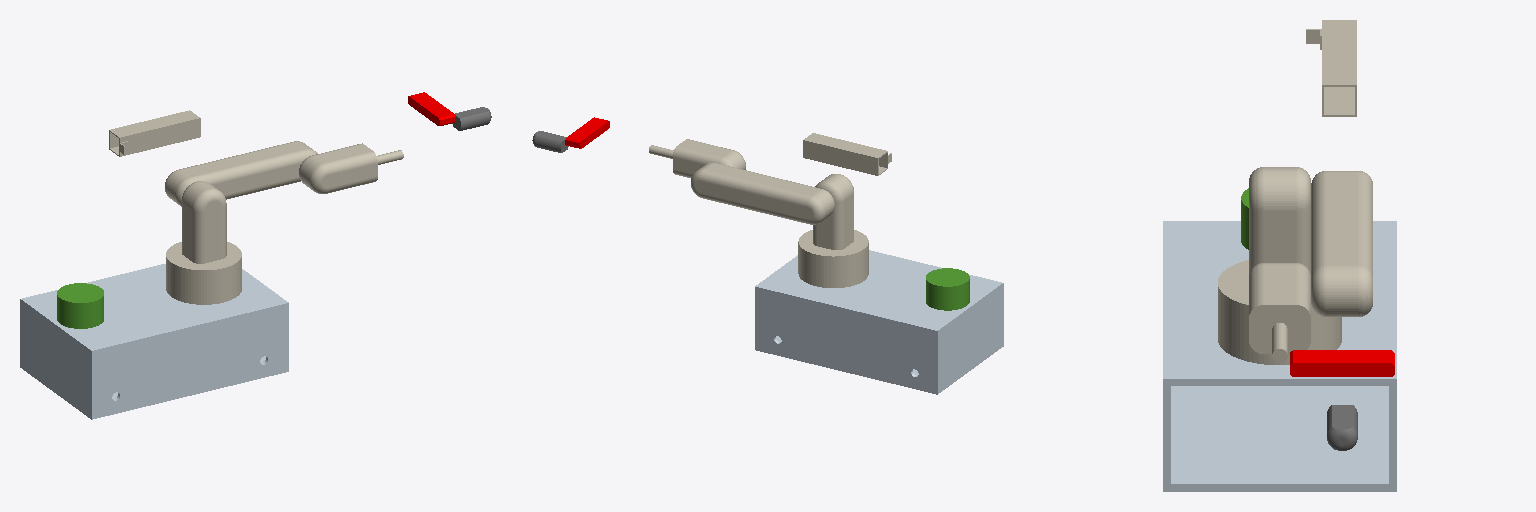
The robot description file, URDF, robot "rover":
<?xml version="1.0" ?>
<!-- Generated using onshape-to-robot -->
<!-- Onshape document_id: b6ac805677604f50f29b90bd / workspace_id: f7cf7502a4385f463da6ef04 -->
<robot name="rover">
  <!-- Link chassis -->
  <link name="chassis">
    <inertial>
      <origin xyz="-0.266784 -0.20623 -0.0288184" rpy="0 0 0"/>
      <mass value="29.5784"/>
      <inertia ixx="0.731528" ixy="1.7327e-08" ixz="-0.096069" iyy="1.27479" iyz="1.2884e-08" izz="1.49519"/>
    </inertial>
    <!-- Part base -->
    <visual>
      <origin xyz="-0.113729 -0.20623 0.051442" rpy="-4.1366e-08 3.05199e-07 -3.9209e-08"/>
      <geometry>
        <mesh filename="package://rover_description/meshes/base.stl"/>
      </geometry>
      <material name="base_material">
        <color rgba="0.8 0.776471 0.713725 1"/>
      </material>
    </visual>
    <collision>
      <origin xyz="-0.113729 -0.20623 0.051442" rpy="-4.1366e-08 3.05199e-07 -3.9209e-08"/>
      <geometry>
        <mesh filename="package://rover_description/meshes/base.stl"/>
      </geometry>
    </collision>
    <!-- Part chassis -->
    <visual>
      <origin xyz="-0.266129 -0.20623 -0.151758" rpy="-4.1366e-08 3.05199e-07 -3.9209e-08"/>
      <geometry>
        <mesh filename="package://rover_description/meshes/chassis.stl"/>
      </geometry>
      <material name="chassis_material">
        <color rgba="0.811765 0.858824 0.898039 1"/>
      </material>
    </visual>
    <collision>
      <origin xyz="-0.266129 -0.20623 -0.151758" rpy="-4.1366e-08 3.05199e-07 -3.9209e-08"/>
      <geometry>
        <mesh filename="package://rover_description/meshes/chassis.stl"/>
      </geometry>
    </collision>
  </link>
  <!-- Link part_1 -->
  <link name="part_1">
    <inertial>
      <origin xyz="-0 0 -0.0475496" rpy="0 0 0"/>
      <mass value="5.36566"/>
      <inertia ixx="0.0699654" ixy="-0" ixz="0" iyy="0.0699654" iyz="-0" izz="0.12389"/>
    </inertial>
    <!-- Part part_1 -->
    <visual>
      <origin xyz="-0 0 0" rpy="-3.14159 0 -0"/>
      <geometry>
        <mesh filename="package://rover_description/meshes/part_1.stl"/>
      </geometry>
      <material name="part_1_material">
        <color rgba="0.4 0.4 0.4 1"/>
      </material>
    </visual>
    <collision>
      <origin xyz="-0 0 0" rpy="-3.14159 0 -0"/>
      <geometry>
        <mesh filename="package://rover_description/meshes/part_1.stl"/>
      </geometry>
    </collision>
  </link>
  <!-- Joint from chassis to part_1 -->
  <joint name="FL_drive" type="revolute">
    <origin xyz="-0.494729 -0.39673 -0.100958" rpy="-1.5708 3.05199e-07 -3.9209e-08"/>
    <parent link="chassis"/>
    <child link="part_1"/>
    <axis xyz="0 0 1"/>
    <limit effort="10" velocity="10" lower="-3.141592653589793" upper="3.141592653589793"/>
  </joint>
  <!-- Link part_1_2 -->
  <link name="part_1_2">
    <inertial>
      <origin xyz="-0 -0 -0.0475496" rpy="0 0 0"/>
      <mass value="5.36566"/>
      <inertia ixx="0.0699654" ixy="-0" ixz="0" iyy="0.0699654" iyz="-0" izz="0.12389"/>
    </inertial>
    <!-- Part part_1_2 -->
    <visual>
      <origin xyz="0 0 -0" rpy="3.14159 -0 0"/>
      <geometry>
        <mesh filename="package://rover_description/meshes/part_1.stl"/>
      </geometry>
      <material name="part_1_2_material">
        <color rgba="0.4 0.4 0.4 1"/>
      </material>
    </visual>
    <collision>
      <origin xyz="0 0 -0" rpy="3.14159 -0 0"/>
      <geometry>
        <mesh filename="package://rover_description/meshes/part_1.stl"/>
      </geometry>
    </collision>
  </link>
  <!-- Joint from chassis to part_1_2 -->
  <joint name="BL_drive" type="revolute">
    <origin xyz="-0.0375289 -0.39673 -0.100958" rpy="-1.5708 3.05199e-07 -3.9209e-08"/>
    <parent link="chassis"/>
    <child link="part_1_2"/>
    <axis xyz="0 0 1"/>
    <limit effort="10" velocity="10" lower="-3.141592653589793" upper="3.141592653589793"/>
  </joint>
  <!-- Link part_1_3 -->
  <link name="part_1_3">
    <inertial>
      <origin xyz="0 -0 -0.0475496" rpy="0 0 0"/>
      <mass value="5.36566"/>
      <inertia ixx="0.0699654" ixy="0" ixz="-0" iyy="0.0699654" iyz="-0" izz="0.12389"/>
    </inertial>
    <!-- Part part_1_3 -->
    <visual>
      <origin xyz="0 -0 -0" rpy="-3.14159 -0 -0"/>
      <geometry>
        <mesh filename="package://rover_description/meshes/part_1.stl"/>
      </geometry>
      <material name="part_1_3_material">
        <color rgba="0.4 0.4 0.4 1"/>
      </material>
    </visual>
    <collision>
      <origin xyz="0 -0 -0" rpy="-3.14159 -0 -0"/>
      <geometry>
        <mesh filename="package://rover_description/meshes/part_1.stl"/>
      </geometry>
    </collision>
  </link>
  <!-- Joint from chassis to part_1_3 -->
  <joint name="FR_drive" type="revolute">
    <origin xyz="-0.494729 -0.0157296 -0.100958" rpy="1.5708 3.05199e-07 -3.9209e-08"/>
    <parent link="chassis"/>
    <child link="part_1_3"/>
    <axis xyz="0 0 1"/>
    <limit effort="10" velocity="10" lower="-3.141592653589793" upper="3.141592653589793"/>
  </joint>
  <!-- Link part_1_4 -->
  <link name="part_1_4">
    <inertial>
      <origin xyz="-0 0 -0.0475496" rpy="0 0 0"/>
      <mass value="5.36566"/>
      <inertia ixx="0.0699654" ixy="0" ixz="-0" iyy="0.0699654" iyz="-0" izz="0.12389"/>
    </inertial>
    <!-- Part part_1_4 -->
    <visual>
      <origin xyz="0 0 0" rpy="-3.14159 0 -0"/>
      <geometry>
        <mesh filename="package://rover_description/meshes/part_1.stl"/>
      </geometry>
      <material name="part_1_4_material">
        <color rgba="0.4 0.4 0.4 1"/>
      </material>
    </visual>
    <collision>
      <origin xyz="0 0 0" rpy="-3.14159 0 -0"/>
      <geometry>
        <mesh filename="package://rover_description/meshes/part_1.stl"/>
      </geometry>
    </collision>
  </link>
  <!-- Joint from chassis to part_1_4 -->
  <joint name="BR_drive" type="revolute">
    <origin xyz="-0.0375289 -0.0157296 -0.100958" rpy="1.5708 3.05199e-07 -3.9209e-08"/>
    <parent link="chassis"/>
    <child link="part_1_4"/>
    <axis xyz="0 0 1"/>
    <limit effort="10" velocity="10" lower="-3.141592653589793" upper="3.141592653589793"/>
  </joint>
  <!-- Link lidar -->
  <link name="lidar">
    <inertial>
      <origin xyz="0 -0 -0.0381" rpy="0 0 0"/>
      <mass value="1.2066"/>
      <inertia ixx="0.00180016" ixy="0" ixz="0" iyy="0.00180016" iyz="-0" izz="0.00243265"/>
    </inertial>
    <!-- Part lidar -->
    <visual>
      <origin xyz="0 0 -0" rpy="-3.14159 0 0"/>
      <geometry>
        <mesh filename="package://rover_description/meshes/lidar.stl"/>
      </geometry>
      <material name="lidar_material">
        <color rgba="0.372549 0.654902 0.239216 1"/>
      </material>
    </visual>
    <collision>
      <origin xyz="0 0 -0" rpy="-3.14159 0 0"/>
      <geometry>
        <mesh filename="package://rover_description/meshes/lidar.stl"/>
      </geometry>
    </collision>
  </link>
  <!-- Joint from chassis to lidar -->
  <joint name="chassis_lidar" type="fixed">
    <origin xyz="-0.494729 -0.20623 0.0514421" rpy="3.14159 3.05199e-07 -3.9209e-08"/>
    <parent link="chassis"/>
    <child link="lidar"/>
    <axis xyz="0 0 1"/>
    <limit effort="10" velocity="10"/>
  </joint>
  <!-- Link l0 -->
  <link name="l0">
    <inertial>
      <origin xyz="-0 -0.00273443 -0.0971396" rpy="0 0 0"/>
      <mass value="2.39104"/>
      <inertia ixx="0.00990806" ixy="0" ixz="-0" iyy="0.00914638" iyz="-0.000361301" izz="0.00427665"/>
    </inertial>
    <!-- Part l0 -->
    <visual>
      <origin xyz="-0 0 0.1016" rpy="3.14159 0 -0"/>
      <geometry>
        <mesh filename="package://rover_description/meshes/l0.stl"/>
      </geometry>
      <material name="l0_material">
        <color rgba="0.8 0.776471 0.713725 1"/>
      </material>
    </visual>
    <collision>
      <origin xyz="-0 0 0.1016" rpy="3.14159 0 -0"/>
      <geometry>
        <mesh filename="package://rover_description/meshes/l0.stl"/>
      </geometry>
    </collision>
  </link>
  <!-- Link l1 -->
  <link name="l1">
    <inertial>
      <origin xyz="0.0913043 0 -0.0508" rpy="0 0 0"/>
      <mass value="2.50551"/>
      <inertia ixx="0.00334246" ixy="0" ixz="-0" iyy="0.0150034" iyz="0" izz="0.0145766"/>
    </inertial>
    <!-- Part l1 -->
    <visual>
      <origin xyz="-0 0.254 -0.1524" rpy="1.5708 -0 -0"/>
      <geometry>
        <mesh filename="package://rover_description/meshes/l1.stl"/>
      </geometry>
      <material name="l1_material">
        <color rgba="0.8 0.776471 0.713725 1"/>
      </material>
    </visual>
    <collision>
      <origin xyz="-0 0.254 -0.1524" rpy="1.5708 -0 -0"/>
      <geometry>
        <mesh filename="package://rover_description/meshes/l1.stl"/>
      </geometry>
    </collision>
  </link>
  <!-- Link l2 -->
  <link name="l2">
    <inertial>
      <origin xyz="-0.003331 2.5e-11 -0.0963825" rpy="0 0 0"/>
      <mass value="1.96282"/>
      <inertia ixx="0.00691356" ixy="2e-12" ixz="-0.00036625" iyy="0.00799142" iyz="1e-12" izz="0.0033451"/>
    </inertial>
    <!-- Part l2 -->
    <visual>
      <origin xyz="-0.1016 0.254 0.2032" rpy="1.5708 1.5708 0"/>
      <geometry>
        <mesh filename="package://rover_description/meshes/l2.stl"/>
      </geometry>
      <material name="l2_material">
        <color rgba="0.8 0.776471 0.713725 1"/>
      </material>
    </visual>
    <collision>
      <origin xyz="-0.1016 0.254 0.2032" rpy="1.5708 1.5708 0"/>
      <geometry>
        <mesh filename="package://rover_description/meshes/l2.stl"/>
      </geometry>
    </collision>
  </link>
  <!-- Link l3 -->
  <link name="l3">
    <inertial>
      <origin xyz="0.0659696 -0 -0.0508" rpy="0 0 0"/>
      <mass value="1.96713"/>
      <inertia ixx="0.00259743" ixy="-0" ixz="-0" iyy="0.00827847" iyz="0" izz="0.00794865"/>
    </inertial>
    <!-- Part l3 -->
    <visual>
      <origin xyz="-0.3556 0.254 -0.0508" rpy="1.5708 0 -0"/>
      <geometry>
        <mesh filename="package://rover_description/meshes/l3.stl"/>
      </geometry>
      <material name="l3_material">
        <color rgba="0.8 0.776471 0.713725 1"/>
      </material>
    </visual>
    <collision>
      <origin xyz="-0.3556 0.254 -0.0508" rpy="1.5708 0 -0"/>
      <geometry>
        <mesh filename="package://rover_description/meshes/l3.stl"/>
      </geometry>
    </collision>
  </link>
  <!-- Link part_6 -->
  <link name="part_6">
    <inertial>
      <origin xyz="0.00259042 5.9e-11 -0.124353" rpy="0 0 0"/>
      <mass value="2.52457"/>
      <inertia ixx="0.0138994" ixy="3e-12" ixz="0.000515573" iyy="0.0151421" iyz="6e-12" izz="0.00425848"/>
    </inertial>
    <!-- Part part_6 -->
    <visual>
      <origin xyz="0 0.254 0.508" rpy="1.5708 1.5708 0"/>
      <geometry>
        <mesh filename="package://rover_description/meshes/part_6.stl"/>
      </geometry>
      <material name="part_6_material">
        <color rgba="0.8 0.776471 0.713725 1"/>
      </material>
    </visual>
    <collision>
      <origin xyz="0 0.254 0.508" rpy="1.5708 1.5708 0"/>
      <geometry>
        <mesh filename="package://rover_description/meshes/part_6.stl"/>
      </geometry>
    </collision>
  </link>
  <!-- Link part_7 -->
  <link name="part_7">
    <inertial>
      <origin xyz="0.0460155 0 -0.0508" rpy="0 0 0"/>
      <mass value="1.58137"/>
      <inertia ixx="0.00210371" ixy="0" ixz="-0" iyy="0.00446692" iyz="-0" izz="0.00419773"/>
    </inertial>
    <!-- Part part_7 -->
    <visual>
      <origin xyz="-0.7112 -0.254 0.0508" rpy="-1.5708 0 0"/>
      <geometry>
        <mesh filename="package://rover_description/meshes/part_7.stl"/>
      </geometry>
      <material name="part_7_material">
        <color rgba="0.8 0.776471 0.713725 1"/>
      </material>
    </visual>
    <collision>
      <origin xyz="-0.7112 -0.254 0.0508" rpy="-1.5708 0 0"/>
      <geometry>
        <mesh filename="package://rover_description/meshes/part_7.stl"/>
      </geometry>
    </collision>
  </link>
  <!-- Link part_8 -->
  <link name="part_8">
    <inertial>
      <origin xyz="3.1441e-08 -1.4282e-08 -0.0487831" rpy="0 0 0"/>
      <mass value="0.211137"/>
      <inertia ixx="0.000191412" ixy="-9.9e-11" ixz="3.34e-10" iyy="0.000205123" iyz="-3.5e-10" izz="5.92586e-05"/>
    </inertial>
    <!-- Part part_8 -->
    <visual>
      <origin xyz="-0.1016 0.254 0.8382" rpy="1.5708 1.5708 0"/>
      <geometry>
        <mesh filename="package://rover_description/meshes/part_8.stl"/>
      </geometry>
      <material name="part_8_material">
        <color rgba="0.498039 0.498039 0.498039 1"/>
      </material>
    </visual>
    <collision>
      <origin xyz="-0.1016 0.254 0.8382" rpy="1.5708 1.5708 0"/>
      <geometry>
        <mesh filename="package://rover_description/meshes/part_8.stl"/>
      </geometry>
    </collision>
  </link>
  <!-- Joint from part_7 to part_8 -->
  <joint name="l5_ee" type="revolute">
    <origin xyz="0.127 0 -0.0508" rpy="3.14159 1.5708 0"/>
    <parent link="part_7"/>
    <child link="part_8"/>
    <axis xyz="0 0 1"/>
    <limit effort="10" velocity="10" lower="-3.141592653589793" upper="3.141592653589793"/>
  </joint>
  <!-- Link camera -->
  <link name="camera">
    <inertial>
      <origin xyz="0 0 -0.0125" rpy="0 0 0"/>
      <mass value="0.264766"/>
      <inertia ixx="6.8741e-05" ixy="0" ixz="0" iyy="0.000647719" iyz="0" izz="0.000689297"/>
    </inertial>
    <!-- Part camera -->
    <visual>
      <origin xyz="-0.085725 -0.025 -0.025" rpy="-0 0 -0"/>
      <geometry>
        <mesh filename="package://rover_description/meshes/camera.stl"/>
      </geometry>
      <material name="camera_material">
        <color rgba="1 0 0 1"/>
      </material>
    </visual>
    <collision>
      <origin xyz="-0.085725 -0.025 -0.025" rpy="-0 0 -0"/>
      <geometry>
        <mesh filename="package://rover_description/meshes/camera.stl"/>
      </geometry>
    </collision>
  </link>
  <!-- Joint from part_7 to camera -->
  <joint name="EE_camera" type="fixed">
    <origin xyz="0.0508 0.04445 -0.0508" rpy="1.5708 1.5708 0"/>
    <parent link="part_7"/>
    <child link="camera"/>
    <axis xyz="0 0 1"/>
    <limit effort="10" velocity="10"/>
  </joint>
  <!-- Joint from part_6 to part_7 -->
  <joint name="l4_l5" type="revolute">
    <origin xyz="0.0508 -0 -0.2032" rpy="-3.14159 1.5708 0"/>
    <parent link="part_6"/>
    <child link="part_7"/>
    <axis xyz="0 0 1"/>
    <limit effort="10" velocity="10" lower="-3.141592653589793" upper="3.141592653589793"/>
  </joint>
  <!-- Joint from l3 to part_6 -->
  <joint name="l3_l4" type="fixed">
    <origin xyz="0.1524 -0 -0.0508" rpy="-0 -1.5708 0"/>
    <parent link="l3"/>
    <child link="part_6"/>
    <axis xyz="0 0 1"/>
    <limit effort="10" velocity="10"/>
  </joint>
  <!-- Joint from l2 to l3 -->
  <joint name="l2_l3" type="revolute">
    <origin xyz="-0.0508 0 -0.1524" rpy="-0 1.5708 0"/>
    <parent link="l2"/>
    <child link="l3"/>
    <axis xyz="0 0 1"/>
    <limit effort="10" velocity="10" lower="-3.141592653589793" upper="3.141592653589793"/>
  </joint>
  <!-- Joint from l1 to l2 -->
  <joint name="l1_l2" type="fixed">
    <origin xyz="0.2032 0 -0.0508" rpy="-0 -1.5708 0"/>
    <parent link="l1"/>
    <child link="l2"/>
    <axis xyz="0 0 1"/>
    <limit effort="10" velocity="10"/>
  </joint>
  <!-- Joint from l0 to l1 -->
  <joint name="l0_l1" type="revolute">
    <origin xyz="-0 -0.1524 -0.1524" rpy="1.5708 0 0"/>
    <parent link="l0"/>
    <child link="l1"/>
    <axis xyz="0 0 1"/>
    <limit effort="10" velocity="10" lower="-3.141592653589793" upper="3.141592653589793"/>
  </joint>
  <!-- Joint from chassis to l0 -->
  <joint name="base_l0" type="revolute">
    <origin xyz="-0.113729 -0.20623 0.153042" rpy="3.14159 3.05199e-07 -3.9209e-08"/>
    <parent link="chassis"/>
    <child link="l0"/>
    <axis xyz="0 0 1"/>
    <limit effort="10" velocity="10" lower="-3.141592653589793" upper="3.141592653589793"/>
  </joint>
</robot>

--- Facts derived from the render (not from the file) ---
Views: 3 orthographic renders of the robot side by side, from view 1: azimuth 30°, elevation 25°; view 2: azimuth 150°, elevation 25°; view 3: azimuth 270°, elevation 25°.
Robot: rover — 14 links, 13 joints (9 revolute, 4 fixed); root link chassis; default pose: every joint at zero.
Visible links, largest first — view 1: chassis, l0, l3, l1, part_6, l2, lidar, camera, part_8; view 2: chassis, l1, l0, part_6, l2, l3, lidar, camera, part_8; view 3: chassis, l0, l3, l2, l1, part_6, camera, part_8.
Boxes of the visible links, x1,y1,x2,y2 form: chassis: (20,242,288,419); l0: (182,181,226,263); l3: (299,143,403,193); l1: (165,154,259,206); part_6: (109,110,200,156); l2: (245,141,332,191); lidar: (57,283,103,328); camera: (408,92,455,125); part_8: (452,107,491,130); chassis: (755,230,1003,394); l1: (746,174,834,224); l0: (803,174,853,249); part_6: (803,133,887,175); l2: (691,163,759,208); l3: (649,139,745,177); lidar: (926,268,969,310); camera: (565,117,609,148); part_8: (532,131,568,152); chassis: (1163,221,1396,491); l0: (1249,167,1310,273); l3: (1249,263,1310,362); l2: (1311,226,1372,316); l1: (1311,171,1372,236); part_6: (1322,20,1356,116); camera: (1290,350,1394,376); part_8: (1327,405,1357,450).
Bounding box of the posed robot: 1.4 × 0.381 × 0.673 m (x, y, z).
Meshes: 12 distinct files referenced, 11 mesh visuals loaded (11 binary STL); not drawn: 4 (reference not matched to a file when rendering).